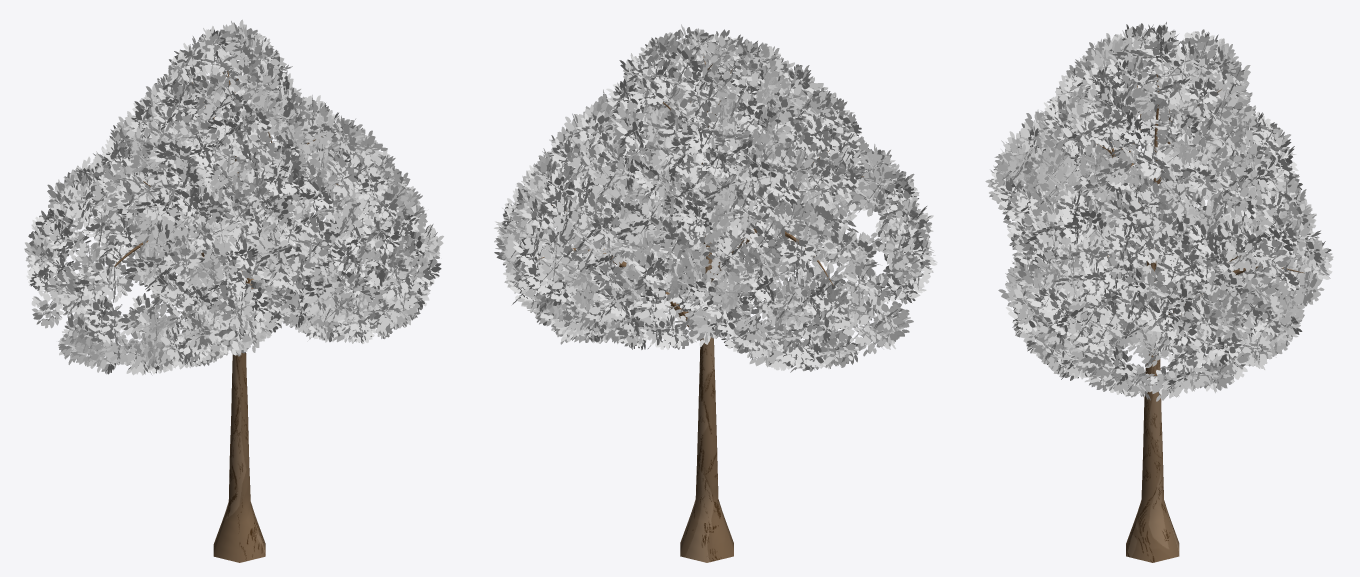
Rendered from Tree05.fbx.
3 renders of one model, left to right at view 1: azimuth 30°, elevation 25°; view 2: azimuth 150°, elevation 25°; view 3: azimuth 270°, elevation 25°, orthographic. The views are drawn at different scales.
Parts seen in each view (by area): view 1: Leaves05, Trunk05; view 2: Leaves05, Trunk05; view 3: Leaves05, Trunk05.
Part boxes in pixels (x1,y1,x2,y2): Leaves05: (24,19,443,375); Trunk05: (114,71,339,562); Leaves05: (494,24,937,372); Trunk05: (538,56,863,562); Leaves05: (985,22,1333,401); Trunk05: (1096,74,1304,562).
Bounding box in the file's own units: 302 × 374 × 236.
